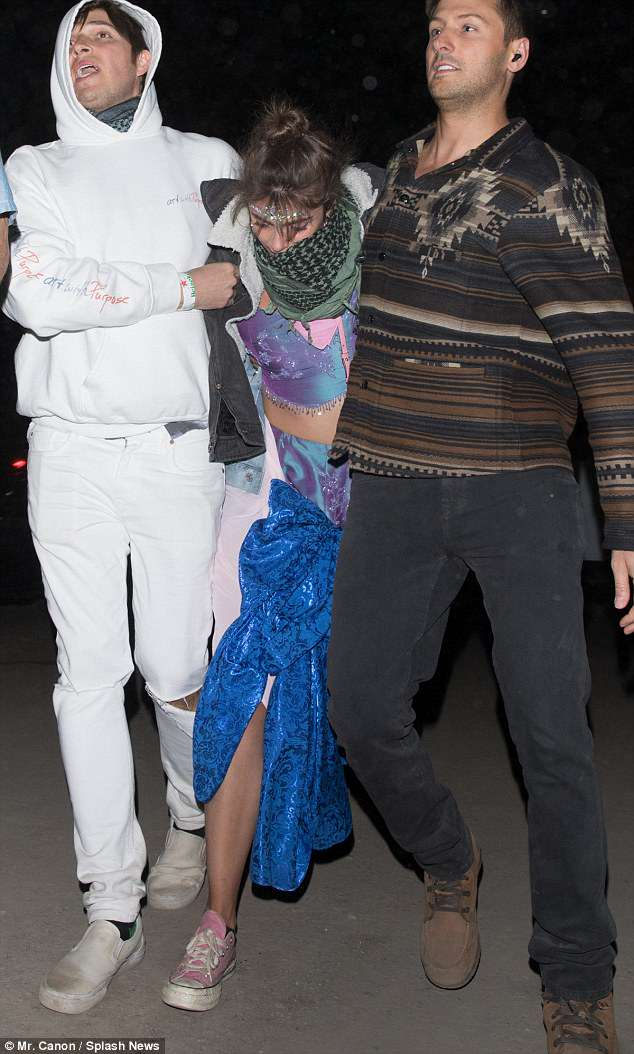Person: (331, 1, 634, 1054), (1, 1, 245, 1016), (161, 102, 362, 1015)
